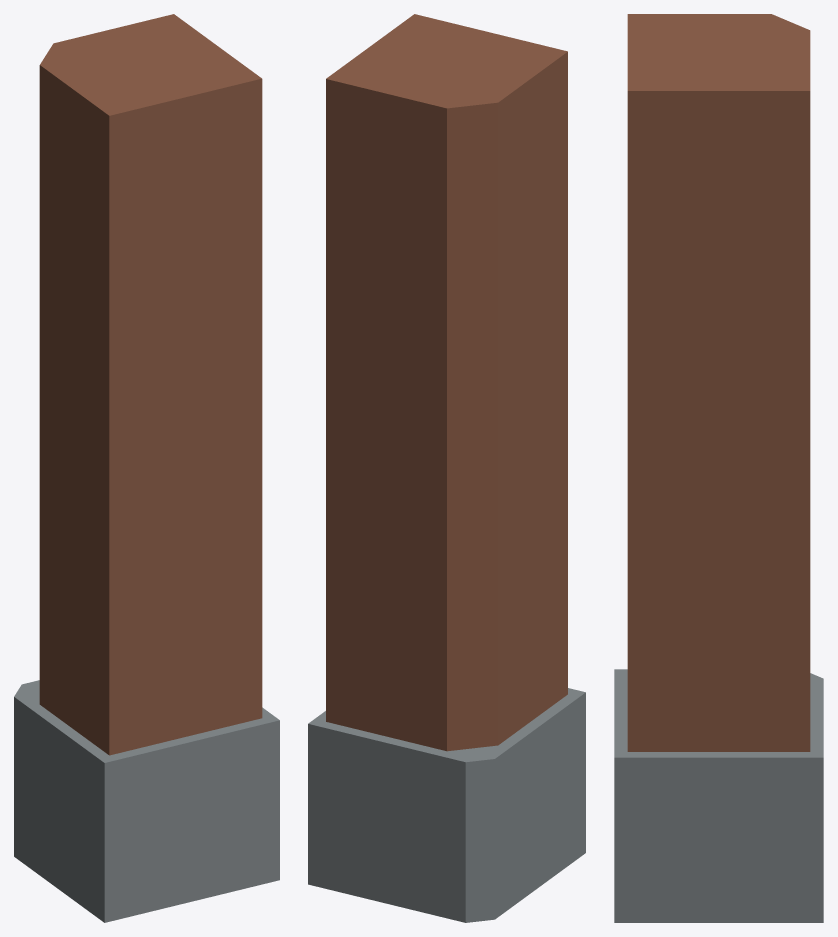
The model's file is Poutrebase.glb.
3 views of the same model, side by side, from view 1: azimuth 30°, elevation 25°; view 2: azimuth 150°, elevation 25°; view 3: azimuth 270°, elevation 25° (orthographic). The views are drawn at different scales.
Parts seen in each view (by area): view 1: Cube.003; view 2: Cube.003; view 3: Cube.003.
Boxes of the visible parts, <box> form: Cube.003: <box>14,14,279,922</box>; Cube.003: <box>308,14,585,922</box>; Cube.003: <box>614,14,823,922</box>.
Size of the model in its own units: 0.459 by 2 by 0.459.
